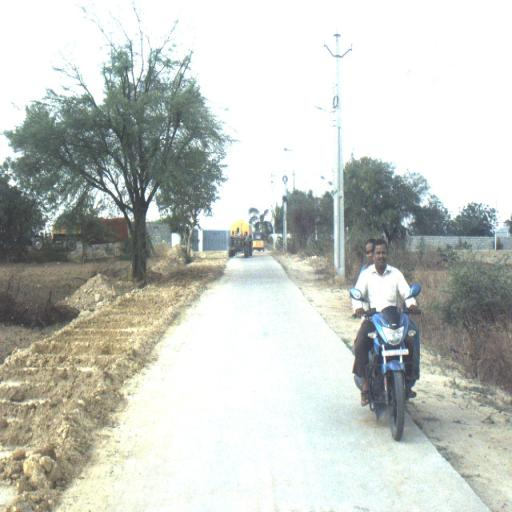street_light_0: (312, 104, 344, 129)
